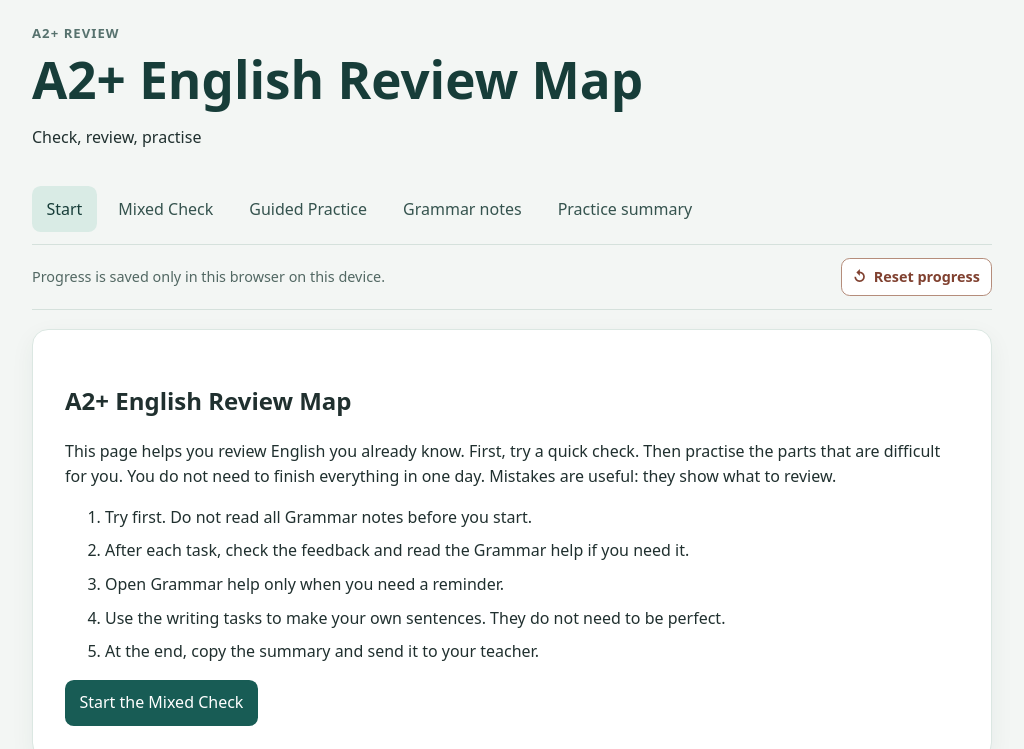
shows explanation without an answer key after a correct check
Click the button "Mixed Check" at (166, 209), box [104,186,228,232]
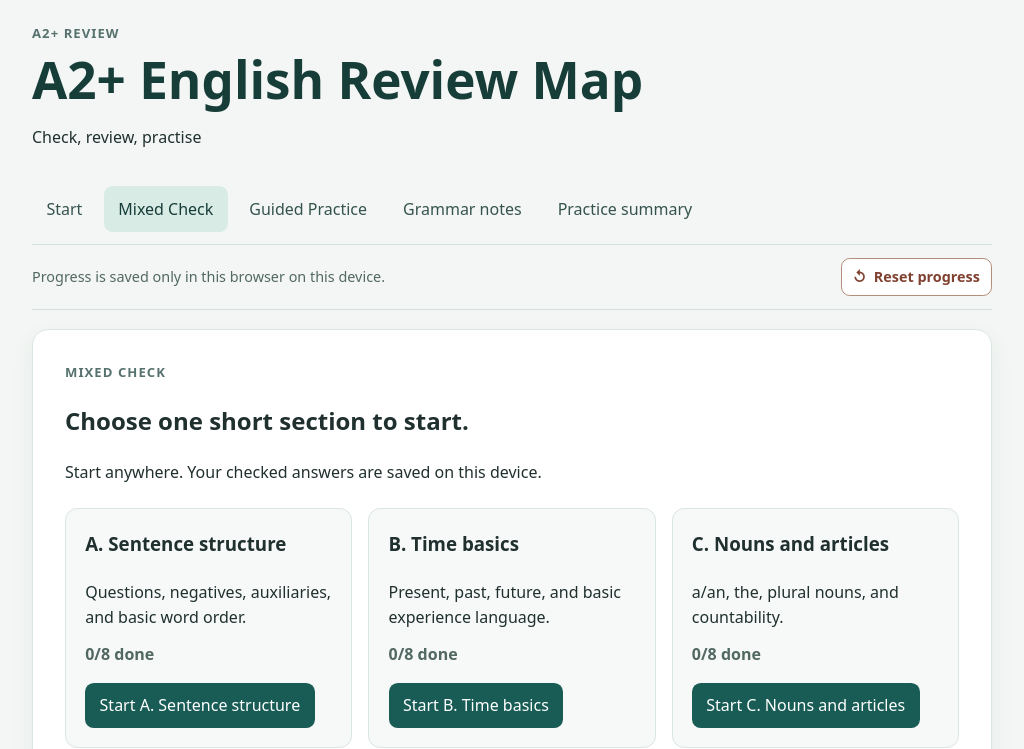
Click the button "Start A. Sentence structure" at (200, 705), box [85,683,315,728]
(page scrolled)
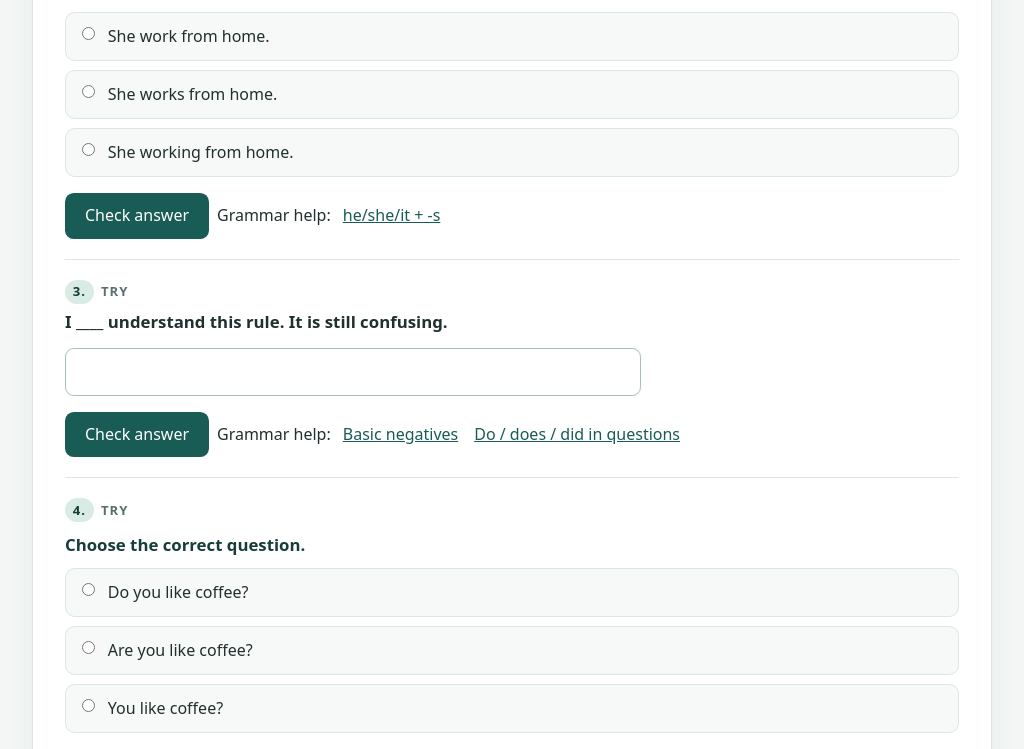
Type "don't" into the field named "Answer for d-se-03" at (353, 372), box [65,348,641,396]
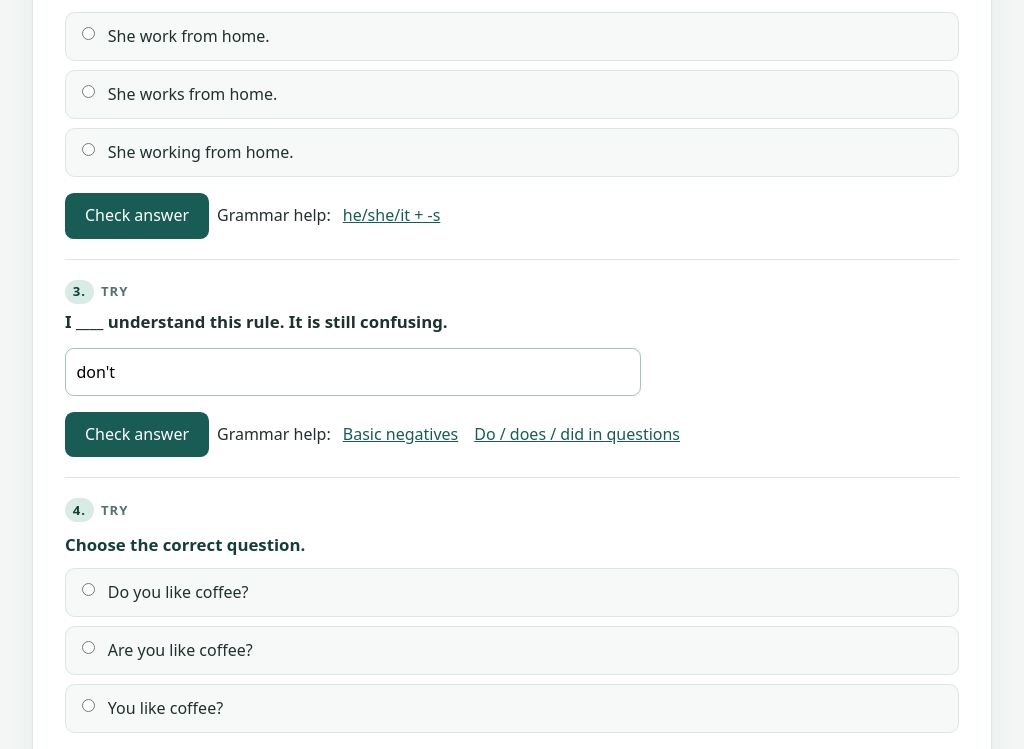
Click the 2nd button "Check answer" at (137, 434), box [65,412,209,457]
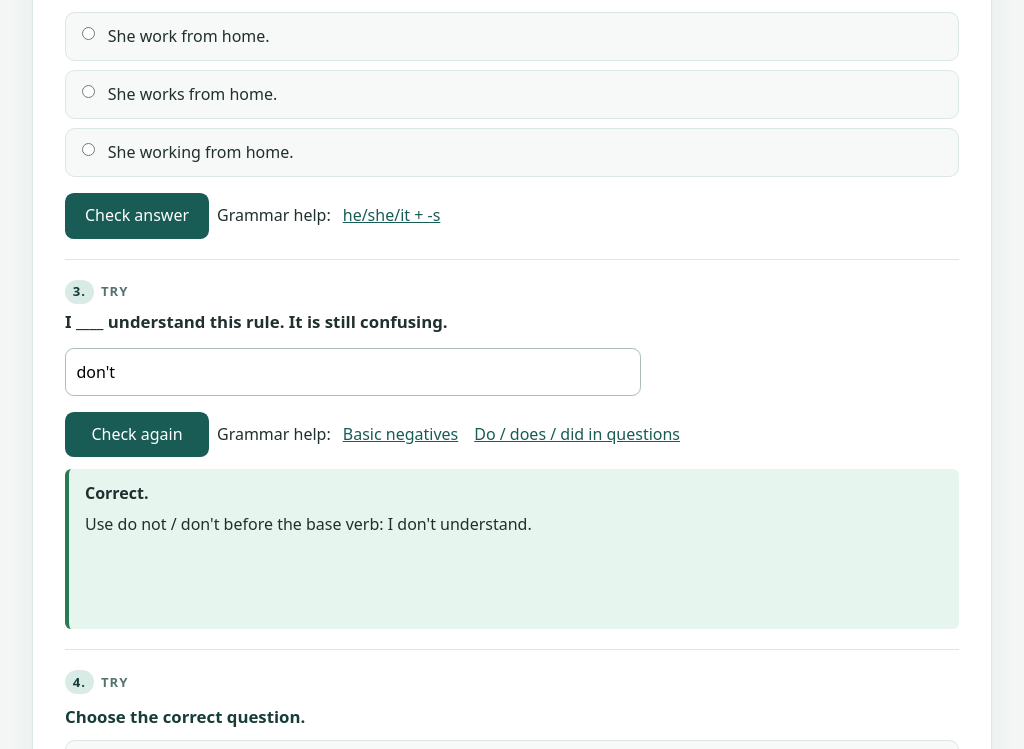
Expected: the text "Correct." is shown, [85,482,148,504]
Expected: the text "Use do not / don't before the base verb" is shown, [85,513,532,535]
